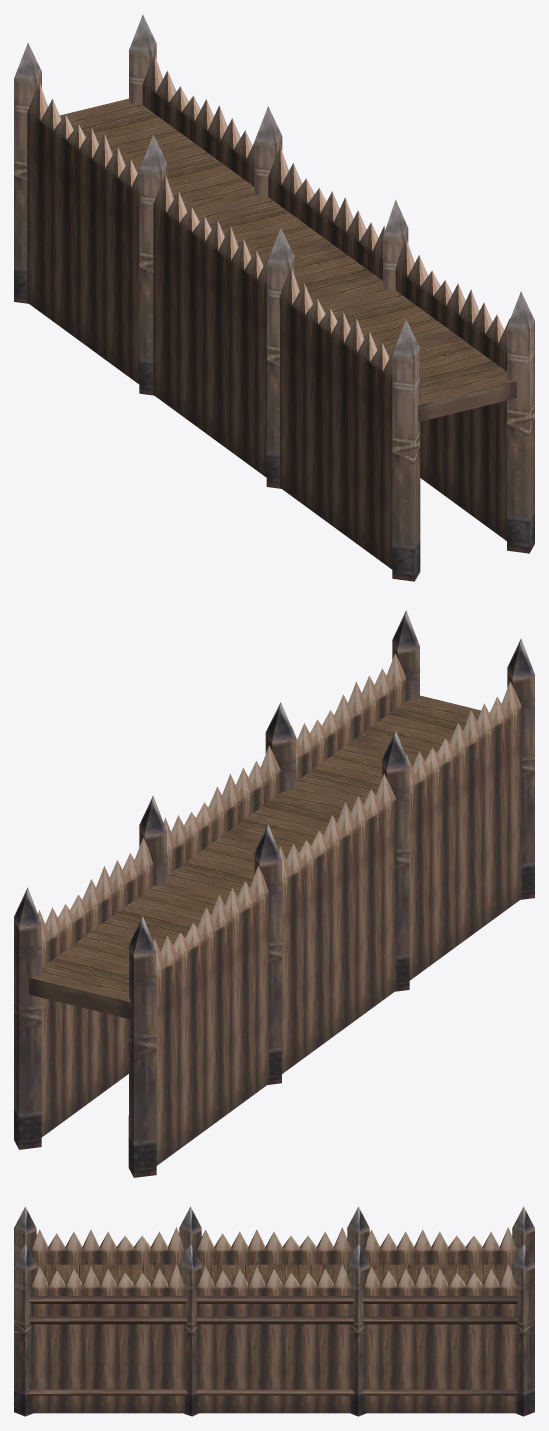
The model's file is weiqiang01_R.fbx.
The picture shows the model from 3 angles, top to bottom: view 1: azimuth 30°, elevation 25°; view 2: azimuth 150°, elevation 25°; view 3: azimuth 270°, elevation 25°; orthographic projection. The views are drawn at different scales.
Visible parts, largest first — view 1: weiqiang01_R; view 2: weiqiang01_R; view 3: weiqiang01_R.
Part boxes in pixels (left/top/right/bottom): weiqiang01_R: left=14, top=14, right=534, bottom=581; weiqiang01_R: left=14, top=610, right=534, bottom=1177; weiqiang01_R: left=14, top=1206, right=534, bottom=1416.
Size of the model in its own units: 1.69 by 2.91 by 8.13.
